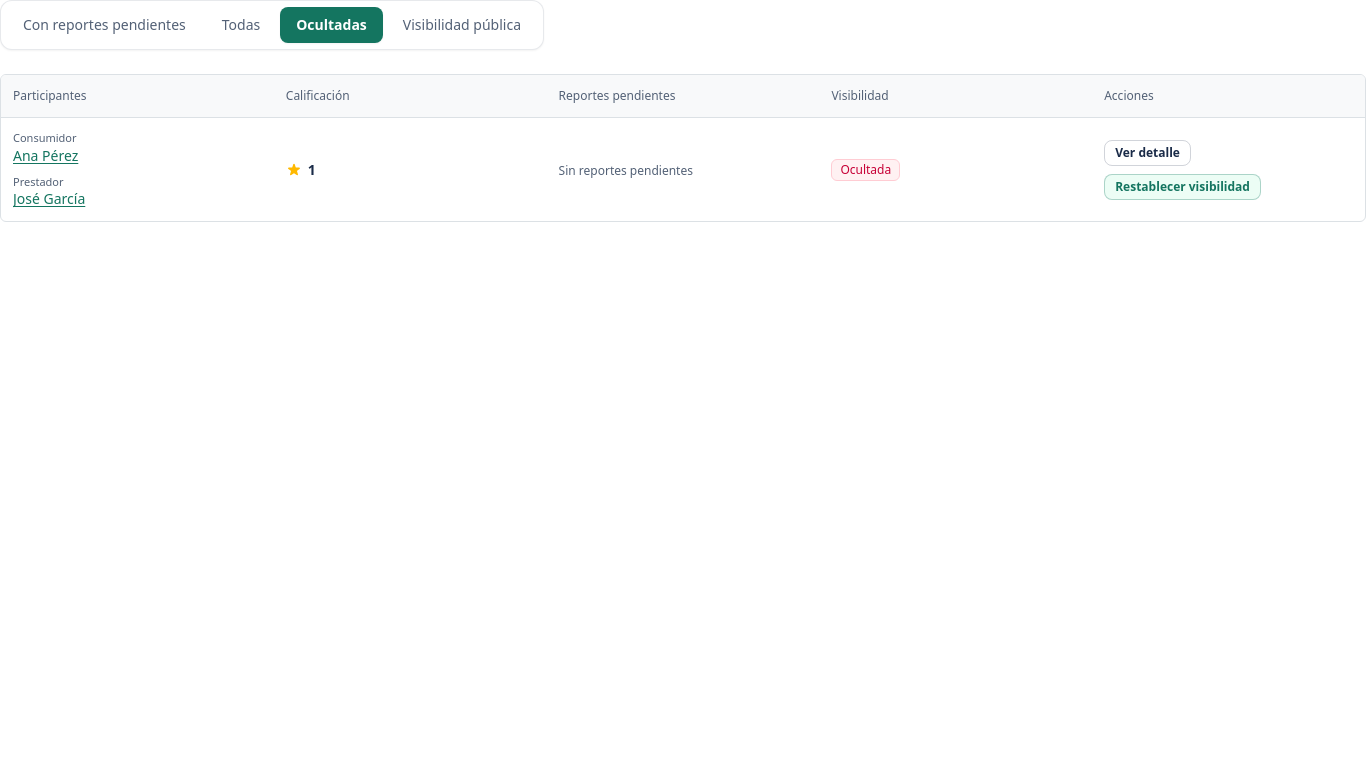
Test: ModerationPage › restores a hidden review without asking for a reason
Expected: the link "Ana Pérez" is shown, [13, 146, 78, 165]
Step 1. Click the button "Restablecer visibilidad" → coordinates (1183, 187), box [1104, 174, 1261, 200]
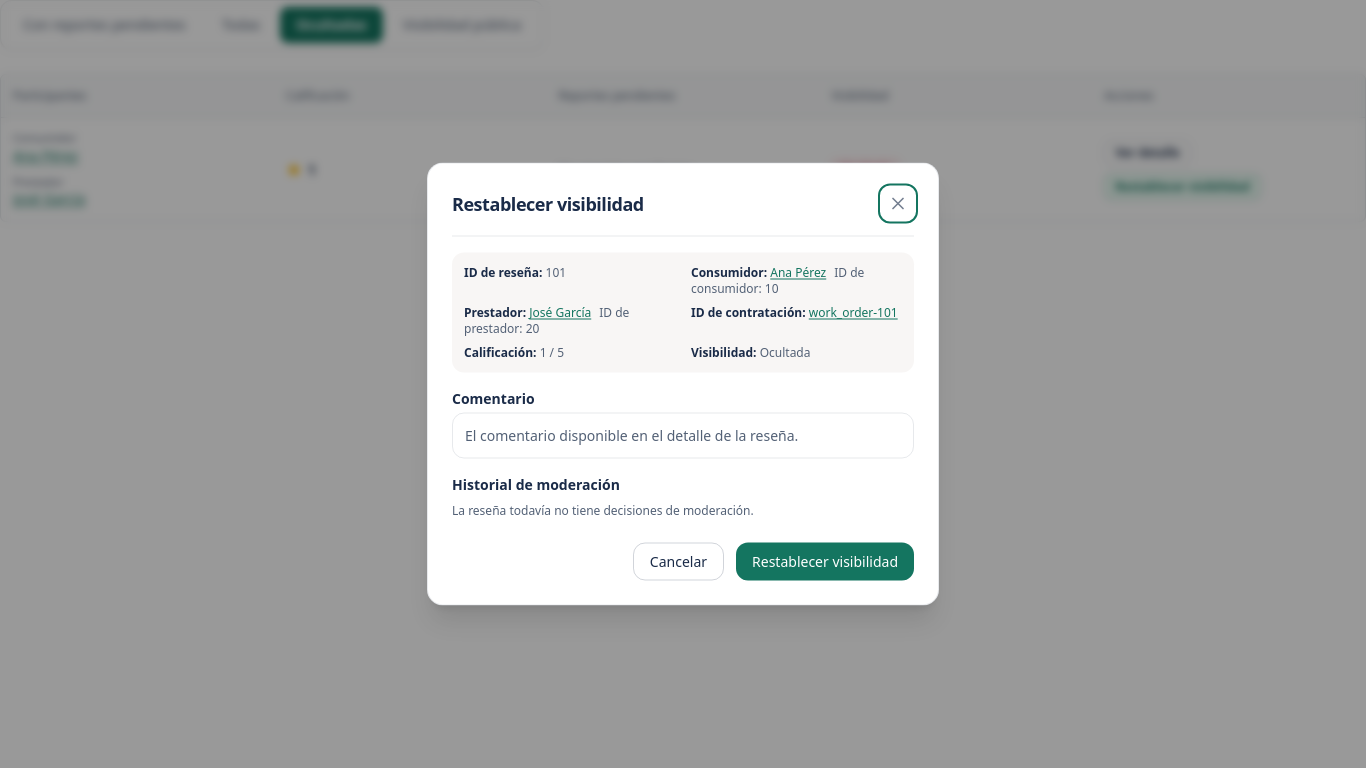
Now the heading "Historial de moderación" is shown, box [452, 474, 620, 494]
Step 2. Click the button "Restablecer visibilidad" → coordinates (825, 562), box [736, 542, 914, 580]
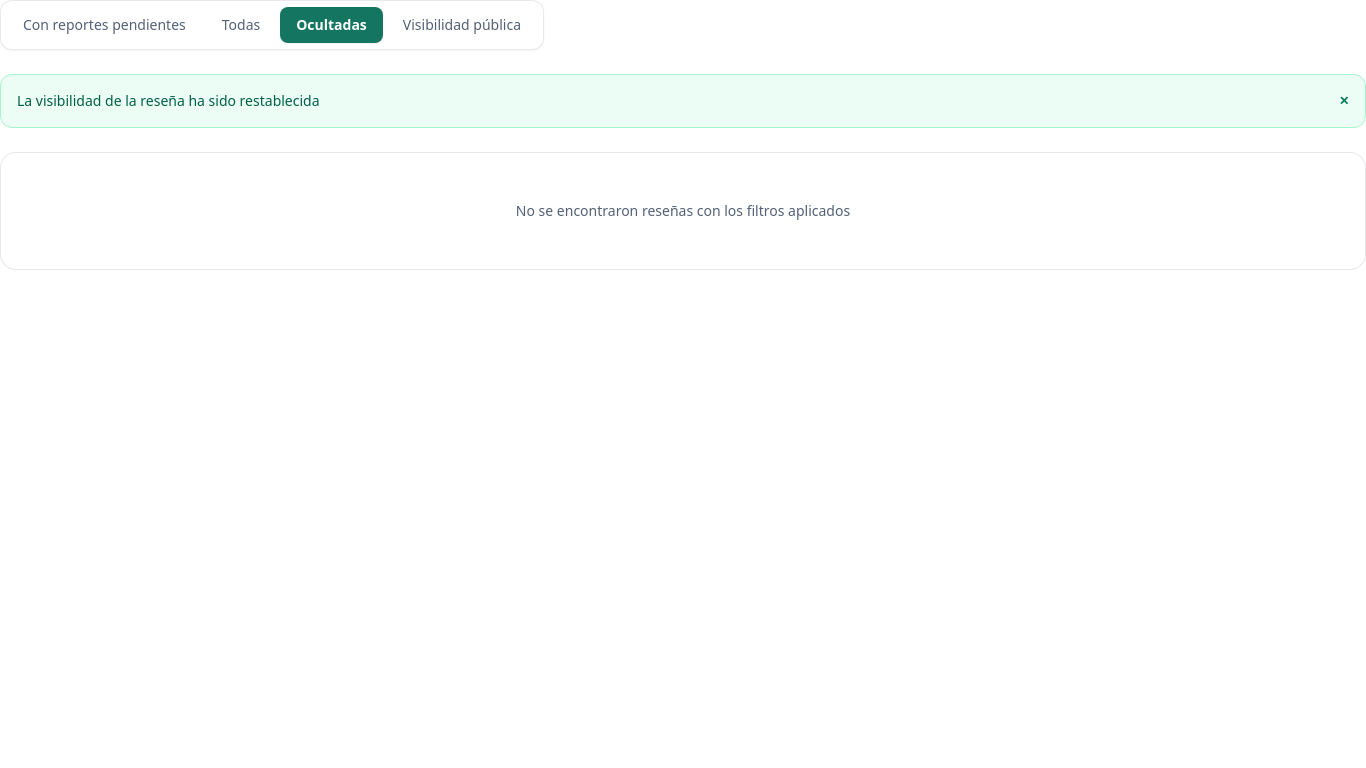
Now the message with test id "moderation-feedback" shows "La visibilidad de la reseña ha sido restablecida", box [17, 91, 320, 110]
Now the text "No se encontraron reseñas con los filtros aplicados" is shown, box [516, 201, 850, 220]
